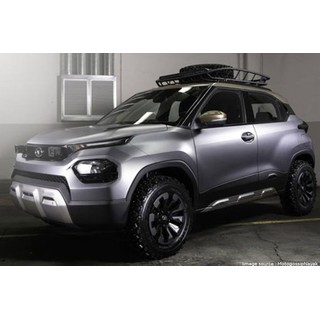car: (10, 81, 314, 257)
